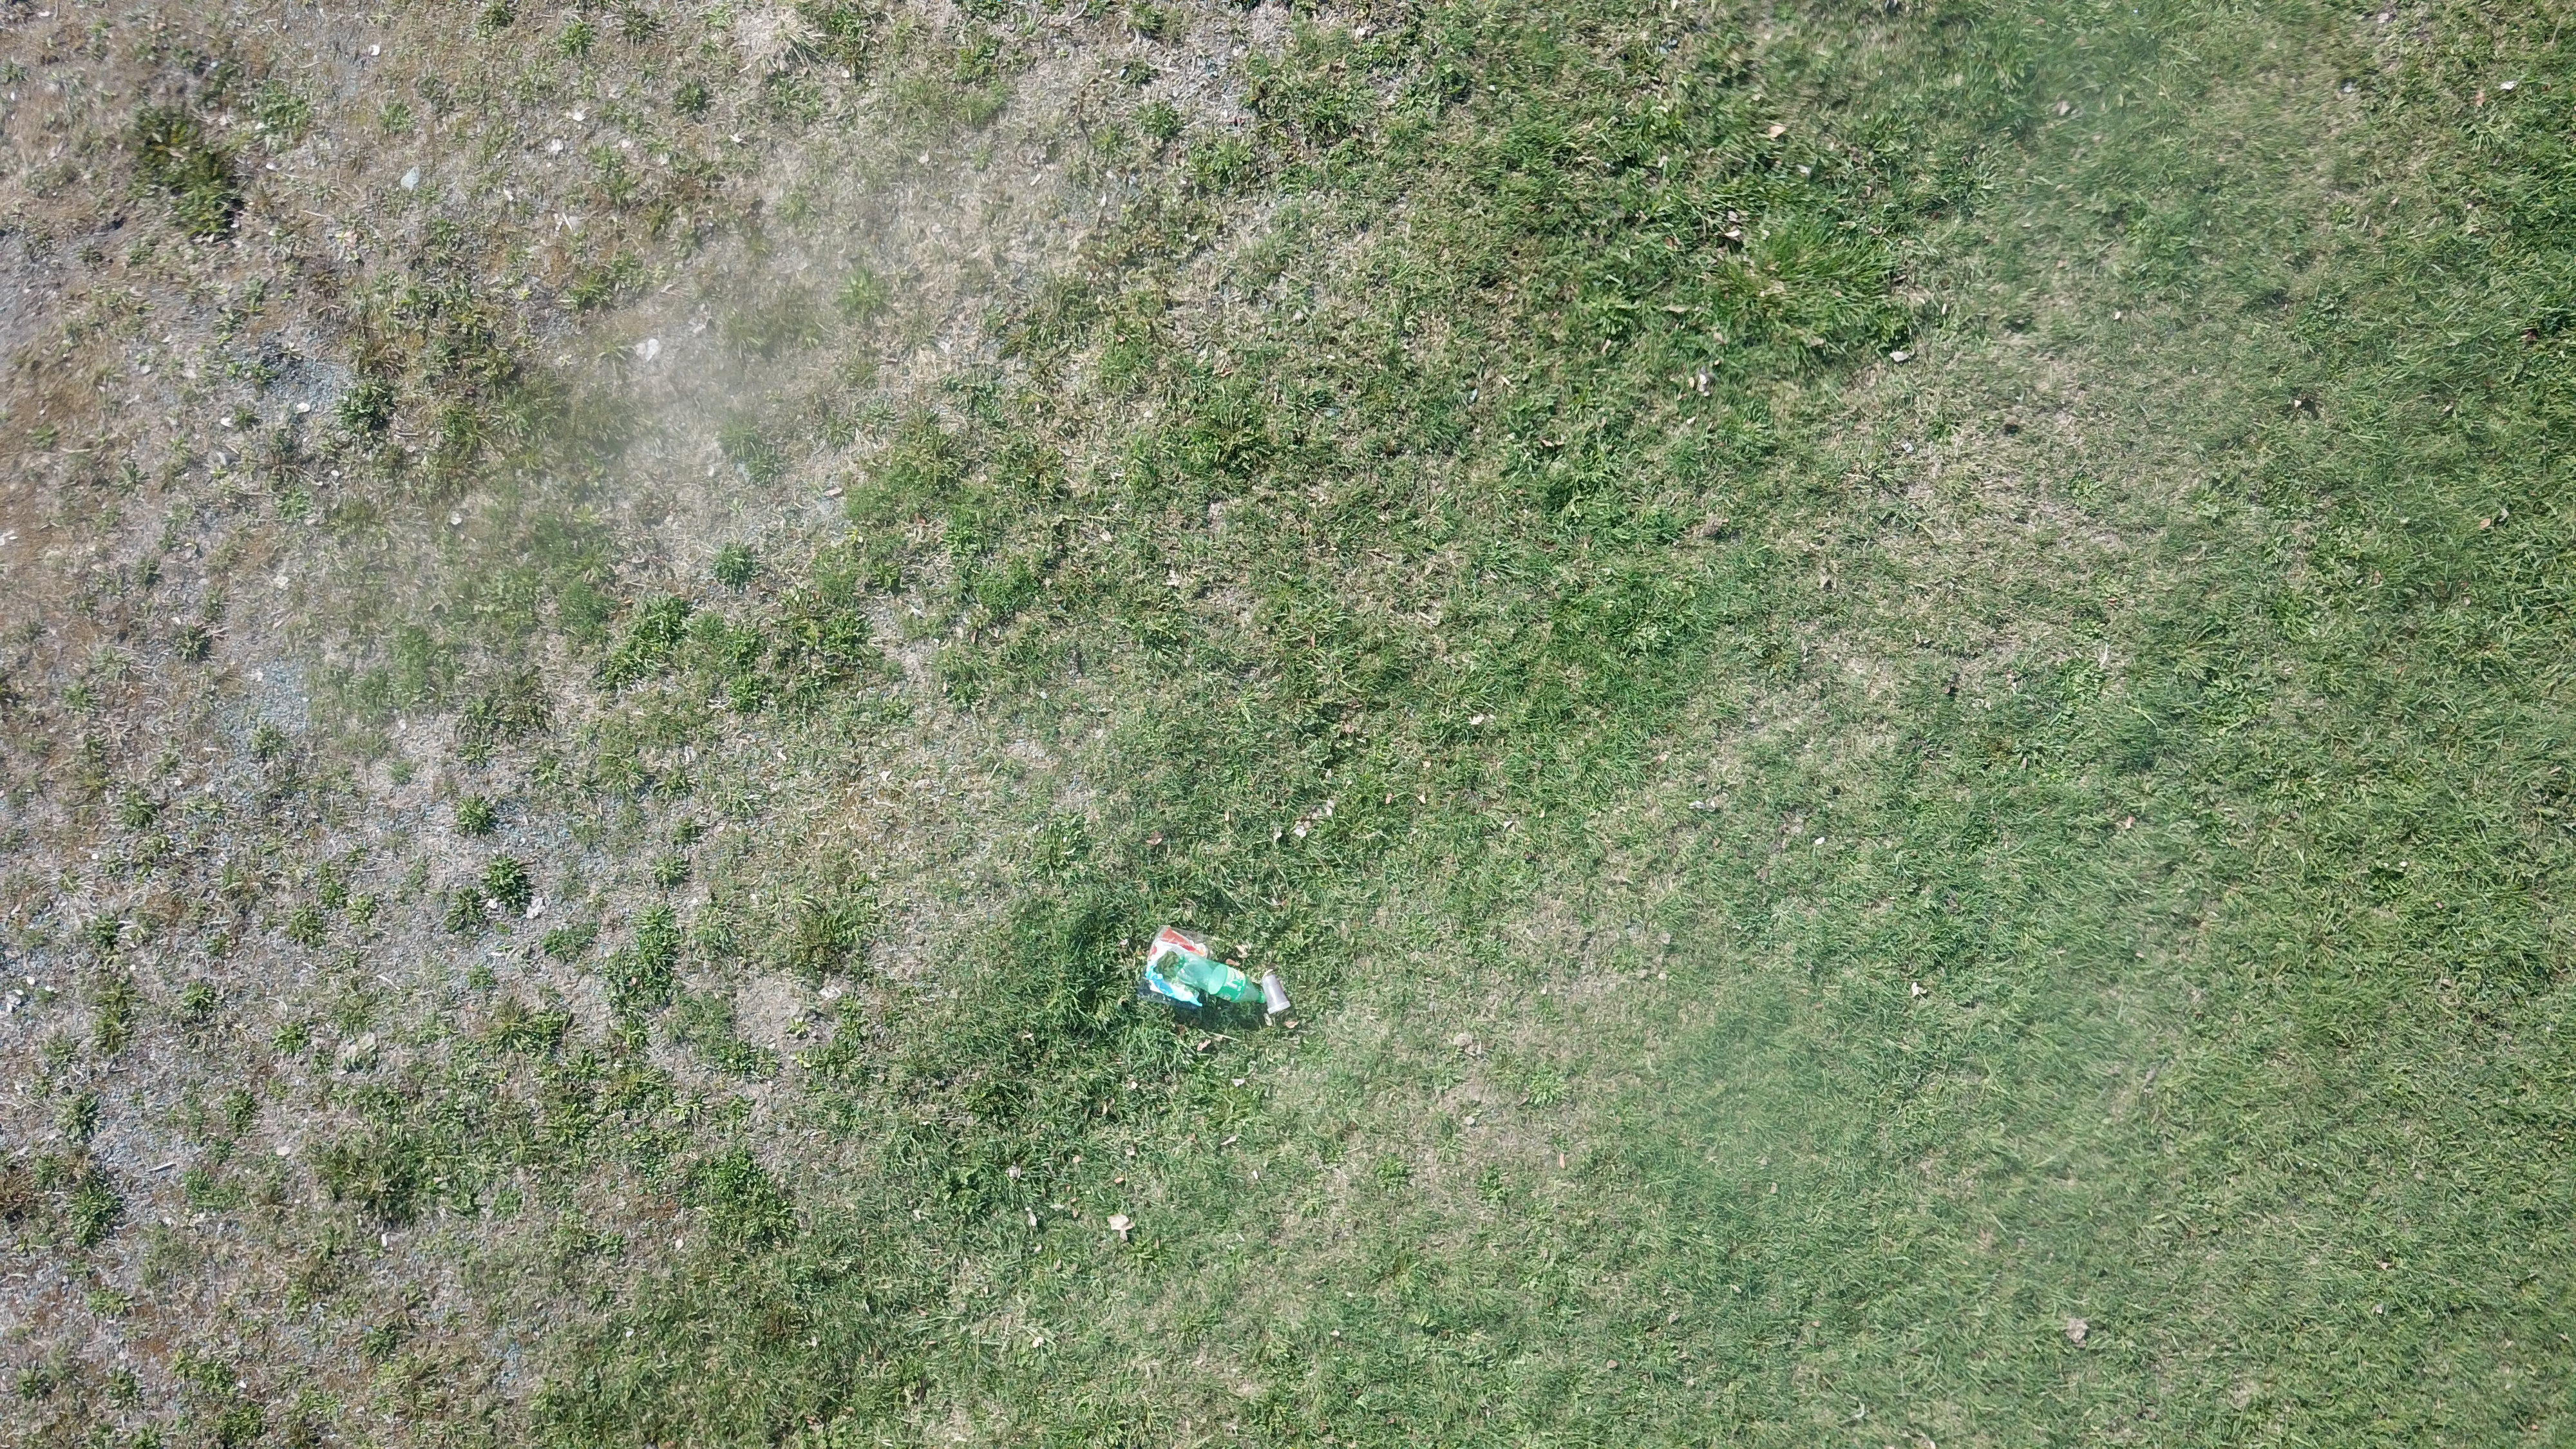Plastic: (1148, 924, 1210, 1007), (1261, 970, 1293, 1014)
PlasticBottle: (1180, 950, 1270, 1005)
